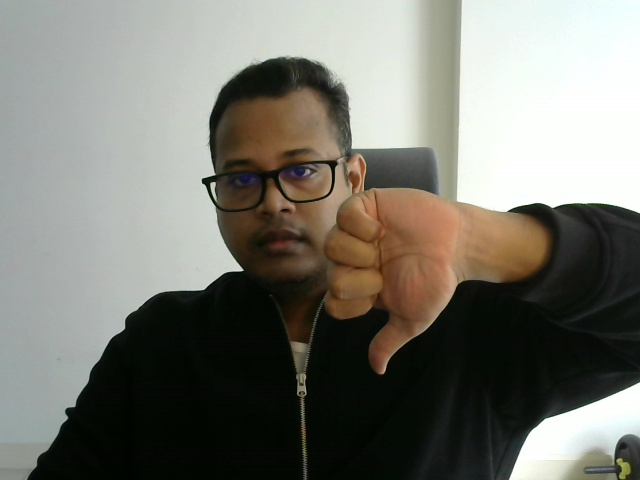ThumbsDown: (324, 187, 457, 375)
